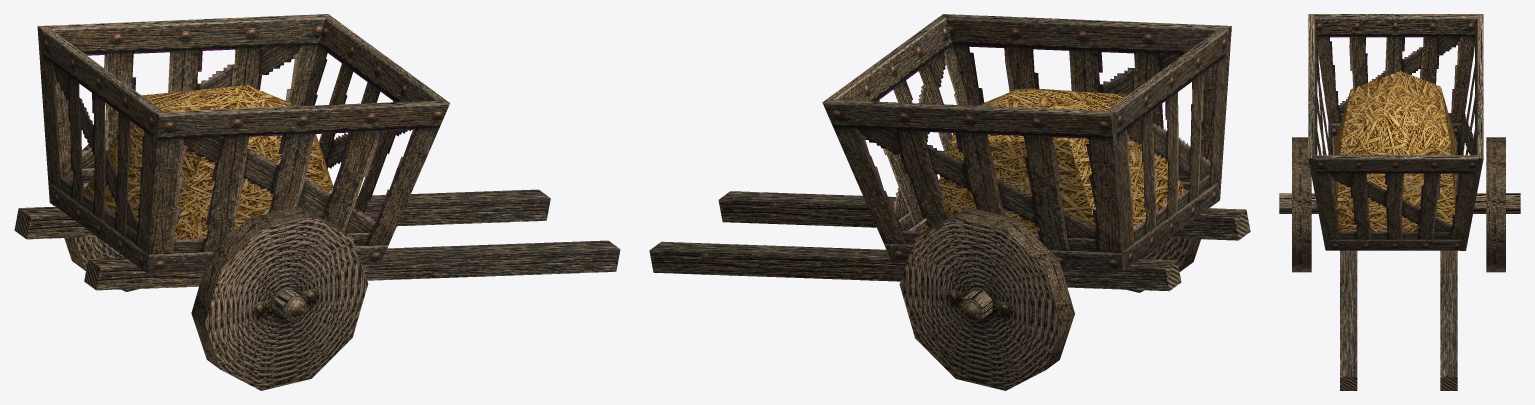
File: mm9_deco_cart02.glb
3 views of the same model, side by side, from view 1: azimuth 30°, elevation 25°; view 2: azimuth 150°, elevation 25°; view 3: azimuth 270°, elevation 25° (orthographic). The views are drawn at different scales.
Visible parts, largest first — view 1: Cart02; view 2: Cart02; view 3: Cart02.
Part boxes in pixels (<box>): Cart02: <box>14,14,620,390</box>; Cart02: <box>649,14,1250,390</box>; Cart02: <box>1279,14,1520,390</box>.
Size of the model in its own units: 3.89 by 2.05 by 2.16.
2 materials, 2 textured.
